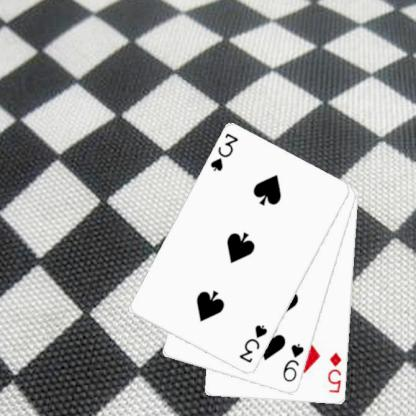3S: (236, 322, 269, 365), (207, 130, 240, 173)
5D: (325, 350, 343, 394)
9S: (280, 341, 306, 384)
